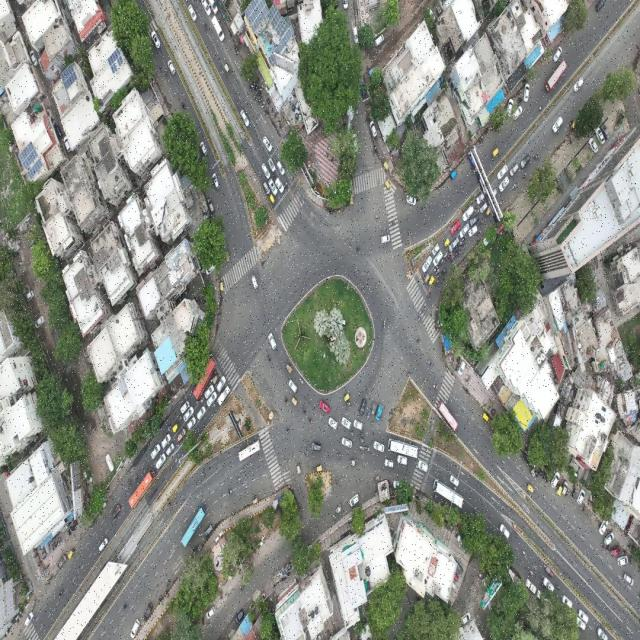3W: (66, 545, 76, 561), (480, 408, 490, 424), (284, 359, 293, 376), (422, 271, 432, 286), (172, 420, 181, 436), (223, 61, 232, 77), (382, 158, 391, 174), (449, 167, 459, 181), (442, 237, 453, 249), (314, 463, 324, 476), (525, 482, 535, 495), (491, 144, 500, 158), (555, 484, 563, 499), (384, 179, 393, 192), (290, 395, 298, 409), (571, 486, 578, 502), (250, 495, 260, 506), (427, 276, 435, 289), (226, 248, 232, 265), (570, 121, 578, 133), (212, 373, 219, 386), (269, 193, 276, 206), (485, 205, 492, 218), (296, 461, 302, 476), (343, 392, 350, 404), (220, 278, 226, 292)
Bus: (179, 503, 210, 551), (125, 467, 156, 512), (192, 354, 218, 399), (432, 476, 465, 511), (385, 435, 420, 460), (437, 397, 459, 435), (235, 441, 264, 462)
Cars: (141, 596, 155, 624), (23, 608, 36, 634), (238, 104, 251, 129), (233, 604, 246, 628), (551, 116, 565, 138), (496, 163, 512, 182), (592, 126, 606, 147), (266, 329, 278, 352), (186, 2, 198, 25), (267, 176, 279, 199), (498, 521, 511, 542), (260, 134, 274, 153), (318, 395, 332, 414), (130, 618, 142, 640), (154, 451, 167, 471), (587, 136, 600, 156), (497, 174, 510, 194), (349, 490, 362, 510), (594, 0, 611, 15), (274, 176, 286, 197), (458, 222, 472, 240), (550, 470, 562, 491), (542, 576, 556, 594), (310, 436, 323, 455), (261, 159, 272, 181), (110, 501, 122, 521), (150, 30, 162, 50), (522, 80, 532, 104), (338, 436, 353, 451), (518, 154, 532, 170), (620, 572, 634, 588), (149, 443, 162, 460), (207, 0, 220, 17), (216, 374, 227, 394), (206, 195, 216, 217), (350, 132, 360, 154), (512, 103, 523, 123), (56, 551, 68, 569), (449, 217, 461, 235), (577, 607, 589, 625), (249, 271, 259, 292), (372, 34, 386, 49), (601, 123, 611, 144), (372, 440, 387, 454), (276, 159, 287, 178), (573, 76, 584, 95), (603, 530, 616, 546), (462, 205, 474, 222), (574, 616, 586, 633), (205, 604, 217, 621), (422, 254, 432, 274), (576, 488, 586, 508), (98, 536, 109, 554), (378, 232, 392, 246), (616, 555, 630, 569), (382, 456, 396, 470), (175, 428, 188, 443), (160, 432, 172, 448), (544, 563, 556, 579), (448, 473, 460, 489), (167, 57, 177, 76), (553, 44, 563, 63), (599, 518, 609, 537), (328, 415, 338, 434), (211, 171, 220, 192), (369, 118, 378, 139), (375, 401, 384, 422), (359, 396, 368, 417), (287, 377, 298, 394), (448, 236, 459, 253), (609, 544, 622, 558), (199, 138, 208, 158), (202, 0, 212, 18), (509, 163, 521, 178), (434, 250, 444, 268), (560, 594, 572, 609), (416, 459, 428, 474), (183, 406, 194, 422), (203, 523, 214, 539), (207, 391, 218, 407), (359, 78, 367, 100), (597, 624, 608, 640), (561, 478, 570, 497), (404, 193, 417, 206), (467, 225, 479, 239), (352, 418, 364, 432), (506, 98, 514, 118), (468, 214, 481, 226), (341, 414, 352, 428), (166, 442, 176, 457), (196, 406, 206, 421), (476, 191, 486, 206), (185, 418, 197, 430), (205, 383, 214, 399), (432, 241, 441, 257), (396, 454, 408, 466), (267, 157, 276, 172), (353, 26, 359, 48), (262, 180, 270, 196), (479, 201, 488, 214)
LCV: (209, 12, 225, 44), (216, 385, 231, 408), (523, 576, 537, 596), (180, 395, 190, 416)
M2W: (180, 97, 187, 112), (121, 599, 129, 612), (282, 394, 290, 407), (520, 546, 528, 559), (416, 308, 423, 322), (265, 351, 272, 364), (165, 575, 172, 588), (600, 538, 606, 553), (370, 473, 380, 482), (238, 582, 246, 593), (297, 373, 304, 385), (202, 20, 209, 32), (534, 148, 540, 162), (235, 474, 243, 484), (382, 314, 387, 330), (126, 476, 132, 489), (132, 471, 138, 484), (284, 424, 290, 437), (158, 62, 164, 75), (511, 181, 518, 192), (58, 587, 64, 599), (163, 66, 169, 78), (354, 244, 362, 253), (554, 583, 562, 592), (528, 566, 534, 578), (166, 423, 173, 433), (431, 381, 438, 391), (568, 117, 574, 128), (226, 488, 234, 496), (177, 413, 184, 422), (199, 395, 206, 404), (71, 523, 77, 533), (234, 46, 240, 56), (354, 104, 359, 116), (538, 103, 544, 113), (517, 90, 522, 102), (522, 172, 528, 182), (370, 418, 375, 430), (375, 212, 379, 226), (348, 430, 355, 438), (335, 452, 342, 460), (334, 474, 338, 488), (302, 405, 307, 416), (33, 551, 39, 560), (36, 560, 42, 569), (376, 179, 382, 188), (371, 148, 377, 157), (345, 400, 351, 409), (366, 408, 370, 421), (477, 219, 484, 226), (364, 445, 371, 452), (68, 526, 72, 538), (194, 397, 200, 405), (306, 416, 314, 422), (434, 320, 438, 332), (630, 554, 634, 566), (248, 85, 253, 94), (477, 229, 482, 238), (606, 545, 611, 554), (428, 357, 432, 368), (251, 95, 257, 102), (252, 85, 258, 92), (389, 220, 396, 226), (358, 437, 365, 443), (359, 445, 365, 452), (53, 540, 57, 550), (56, 539, 60, 549), (285, 179, 289, 189), (481, 135, 485, 145), (518, 98, 523, 106), (474, 206, 479, 214), (462, 235, 467, 243), (453, 246, 458, 254), (439, 259, 444, 267), (421, 306, 426, 314), (532, 462, 536, 472), (278, 116, 282, 125), (441, 268, 447, 274), (416, 335, 420, 344), (435, 305, 438, 317), (524, 455, 528, 464), (526, 457, 530, 466), (542, 472, 546, 481), (583, 503, 586, 515), (626, 544, 632, 550), (42, 553, 47, 560), (73, 520, 78, 527), (259, 84, 264, 91), (462, 241, 467, 248), (621, 549, 626, 556), (425, 447, 430, 454), (50, 544, 54, 552), (273, 112, 277, 120), (478, 138, 482, 146), (436, 268, 440, 276), (71, 524, 74, 534), (251, 81, 256, 87), (257, 98, 262, 104), (433, 266, 438, 272), (426, 292, 431, 298), (522, 453, 525, 463), (539, 468, 542, 478), (433, 494, 439, 499), (358, 432, 364, 437), (266, 97, 270, 104), (263, 108, 267, 115), (271, 171, 275, 178), (284, 184, 288, 191), (435, 279, 439, 286), (59, 537, 62, 546), (458, 241, 463, 246), (407, 373, 412, 378), (257, 91, 261, 97), (261, 102, 265, 108), (266, 110, 269, 118), (278, 124, 282, 130), (455, 252, 461, 256), (448, 252, 452, 258), (444, 252, 448, 258), (438, 273, 442, 279), (256, 88, 259, 95), (270, 108, 273, 115), (546, 476, 549, 483), (457, 247, 462, 251), (450, 257, 454, 262), (268, 100, 271, 106), (444, 258, 447, 264)
